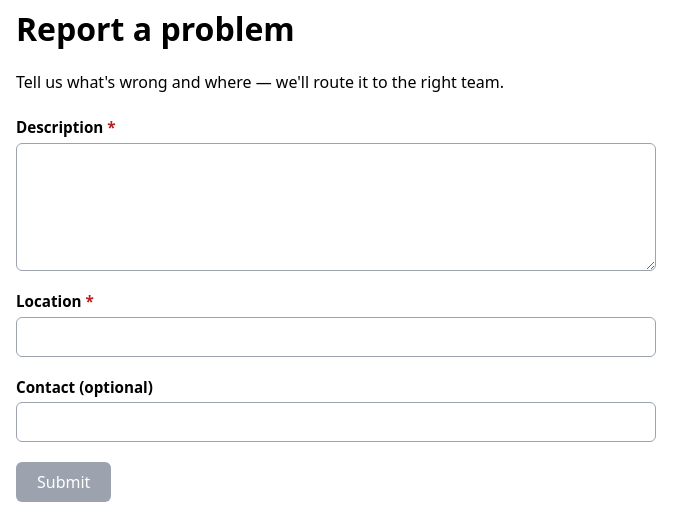
Test: SubmitPage › shows an honest submitting state while the request is in flight
Type "There is a broken water pipe flooding the street." into the text box labelled "Description *". click: (336, 207)
box: [16, 143, 656, 271]
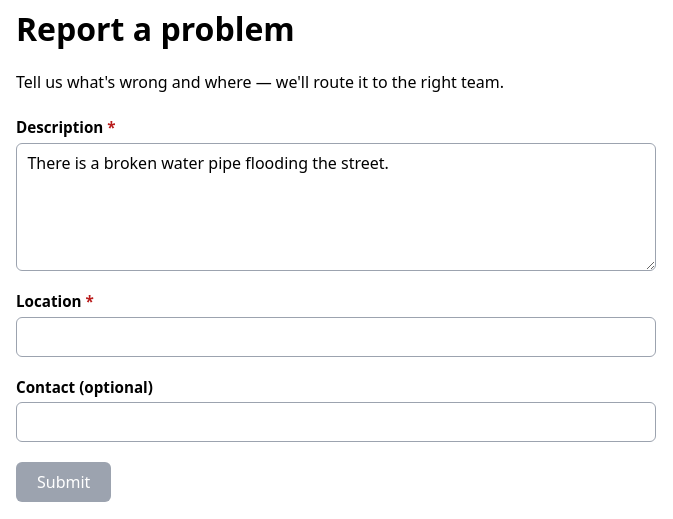
Type "Block 4, Main Street" into the field labelled "Location *". click: (336, 337)
box: [16, 317, 656, 357]
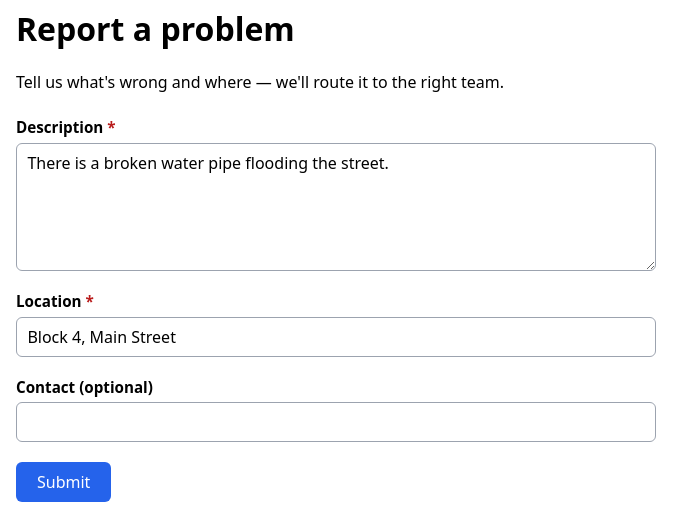
Now the button "Submit" is enabled
Click the button "Submit". click: click(64, 482)
box: [16, 462, 111, 502]
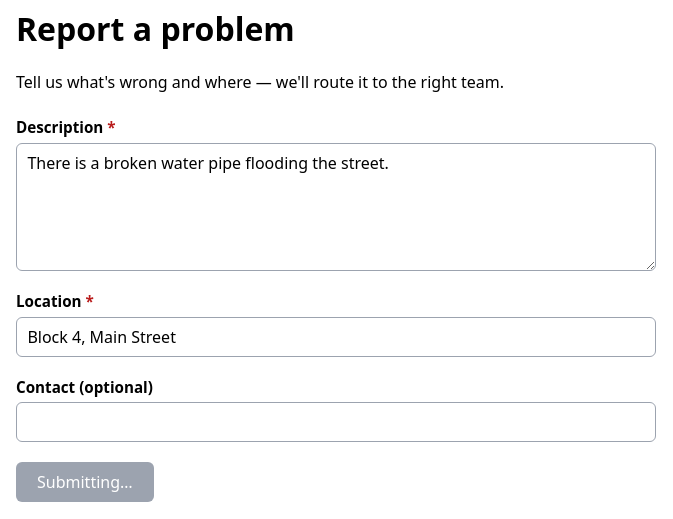
Expected: the text box labelled "Description *" is disabled, [16, 143, 656, 271]
Now the button "Submitting…" is disabled, box [16, 462, 154, 502]
